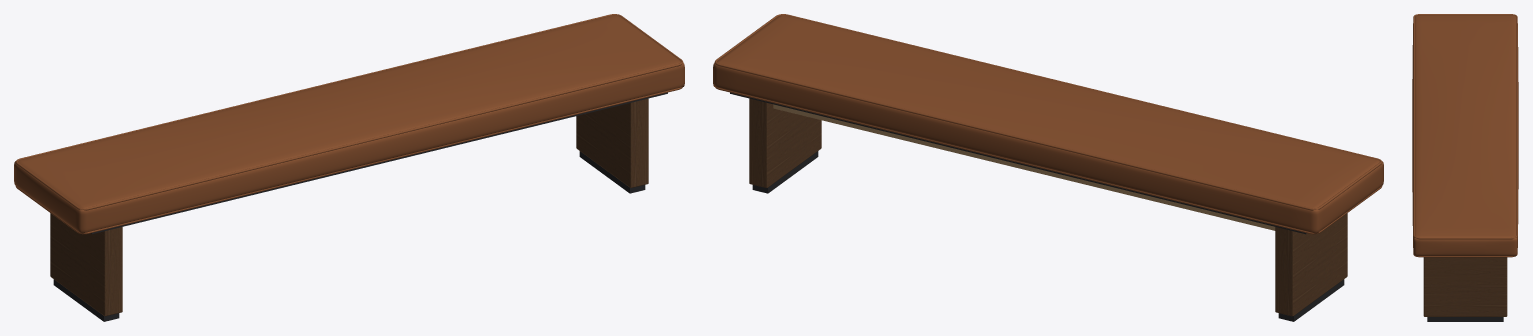
The model's file is entry_bench.gltf.
3 renders of one model, left to right at view 1: azimuth 30°, elevation 25°; view 2: azimuth 150°, elevation 25°; view 3: azimuth 270°, elevation 25°, orthographic. The views are drawn at different scales.
Visible parts, largest first — view 1: EntryBench_Cushion, EntryBench_End_L, EntryBench_End_R, EntryBench_Cushion_Piping0, EntryBench_Cushion_Piping1, EntryBench_Deck; view 2: EntryBench_Cushion, EntryBench_End_L, EntryBench_End_R, EntryBench_Cushion_Piping0, EntryBench_Rail, EntryBench_Cushion_Piping1, EntryBench_Deck; view 3: EntryBench_Cushion, EntryBench_End_R, EntryBench_Cushion_Piping0, EntryBench_Foot_R, EntryBench_Cushion_Piping1.
Boxes of the visible parts, box(x1,y1,x2,y2) form: EntryBench_Cushion: box(14, 15, 684, 233); EntryBench_End_L: box(50, 213, 122, 316); EntryBench_End_R: box(576, 98, 648, 187); EntryBench_Cushion_Piping0: box(15, 14, 683, 210); EntryBench_Cushion_Piping1: box(15, 87, 682, 234); EntryBench_Deck: box(91, 92, 667, 234); EntryBench_Cushion: box(713, 15, 1383, 233); EntryBench_End_L: box(1275, 213, 1347, 316); EntryBench_End_R: box(749, 98, 821, 187); EntryBench_Cushion_Piping0: box(714, 14, 1382, 210); EntryBench_Rail: box(773, 104, 1275, 230); EntryBench_Cushion_Piping1: box(715, 87, 1382, 234); EntryBench_Deck: box(730, 92, 1306, 234); EntryBench_Cushion: box(1412, 15, 1518, 256); EntryBench_End_R: box(1423, 257, 1507, 316); EntryBench_Cushion_Piping0: box(1413, 14, 1517, 239); EntryBench_Foot_R: box(1427, 317, 1503, 321); EntryBench_Cushion_Piping1: box(1413, 253, 1517, 257).
Bounding box in the file's own units: 2.3 × 0.4703 × 0.4594.
Materials: 4 (1 with a texture image).
